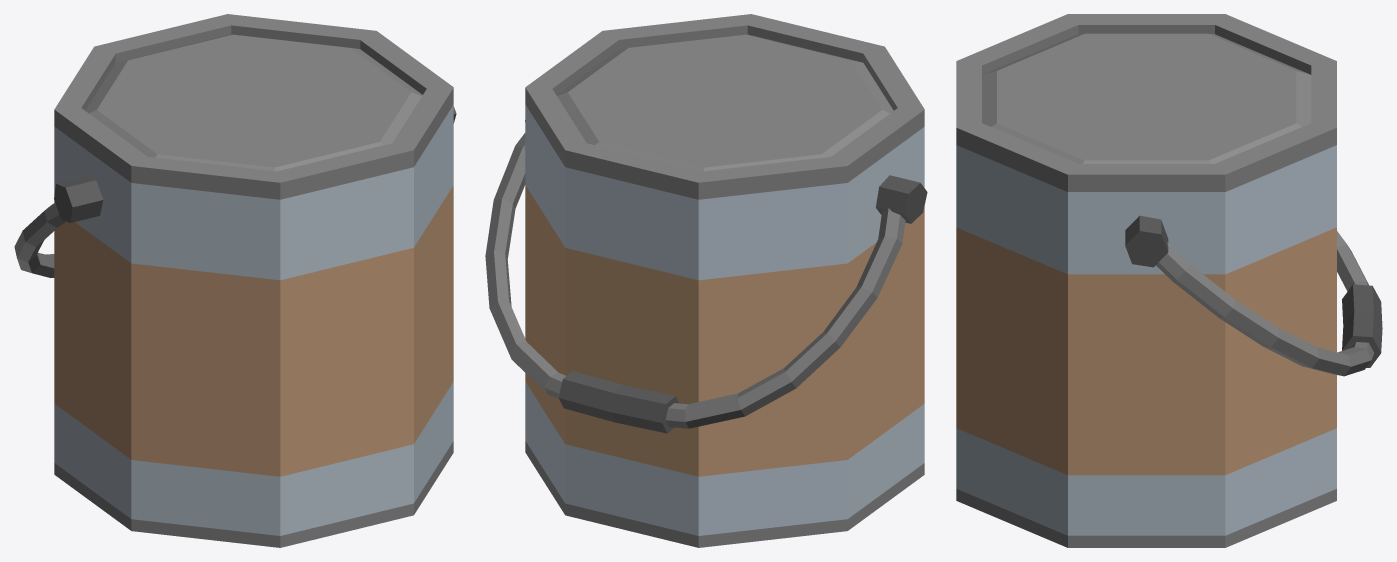
File: SM_Props_Dye_01.glb
The picture shows the model from 3 angles, left to right: view 1: azimuth 30°, elevation 25°; view 2: azimuth 150°, elevation 25°; view 3: azimuth 270°, elevation 25°; orthographic projection. The views are drawn at different scales.
Parts seen in each view (by area): view 1: SM_Props_Dye_01; view 2: SM_Props_Dye_01; view 3: SM_Props_Dye_01.
Boxes of the visible parts, x1,y1,x2,y2 form: SM_Props_Dye_01: [14, 14, 456, 547]; SM_Props_Dye_01: [485, 14, 927, 547]; SM_Props_Dye_01: [956, 14, 1382, 547].
Bounding box in the file's own units: 0.2662 × 0.2417 × 0.2501.
Materials: 1 (1 with a texture image).
